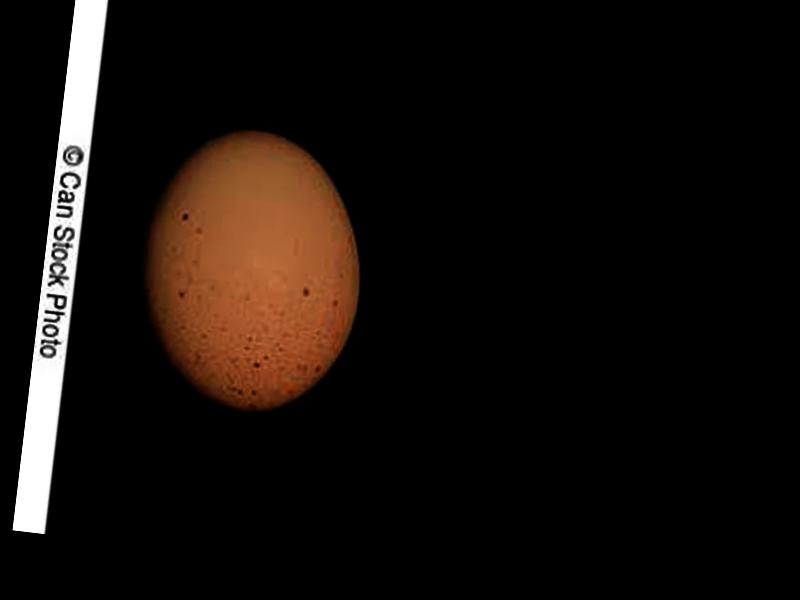Eggs: (123, 117, 376, 420)
